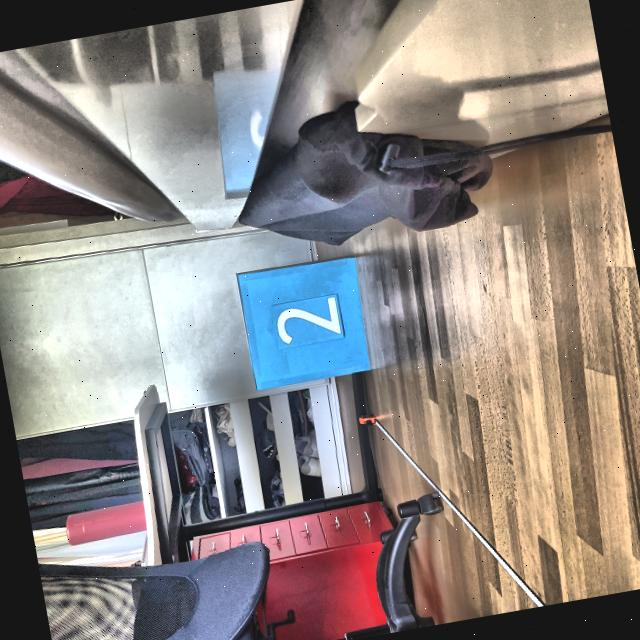blue box: (232, 248, 378, 392)
two: (271, 293, 346, 350)
